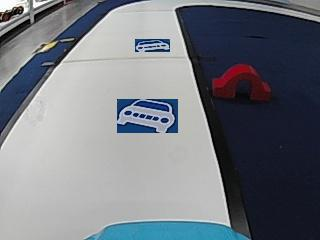bridge: (213, 64, 270, 101)
